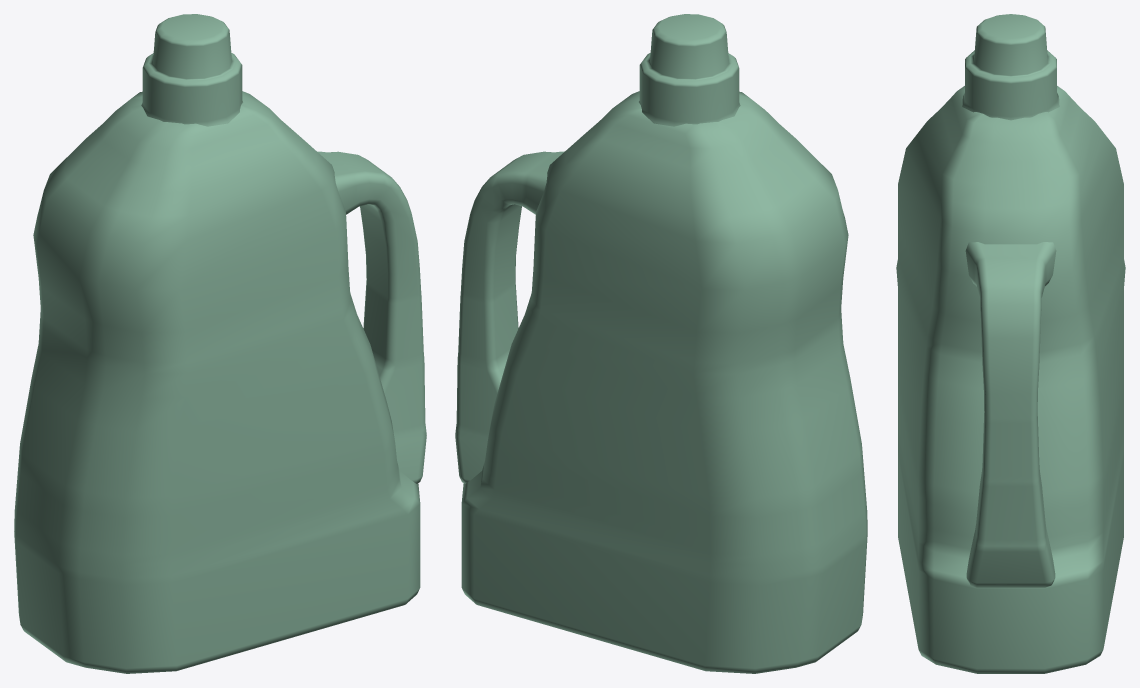
File: Laundry detergent.fbx
3 views of the same model, side by side, from view 1: azimuth 30°, elevation 25°; view 2: azimuth 150°, elevation 25°; view 3: azimuth 270°, elevation 25° (orthographic). The views are drawn at different scales.
Parts seen in each view (by area): view 1: pCube5; view 2: pCube5; view 3: pCube5.
Boxes of the visible parts, x1,y1,x2,y2 form: pCube5: [14, 14, 426, 673]; pCube5: [455, 14, 867, 673]; pCube5: [896, 14, 1125, 673].
Size of the model in its own units: 0.2456 by 0.3671 by 0.1373.
